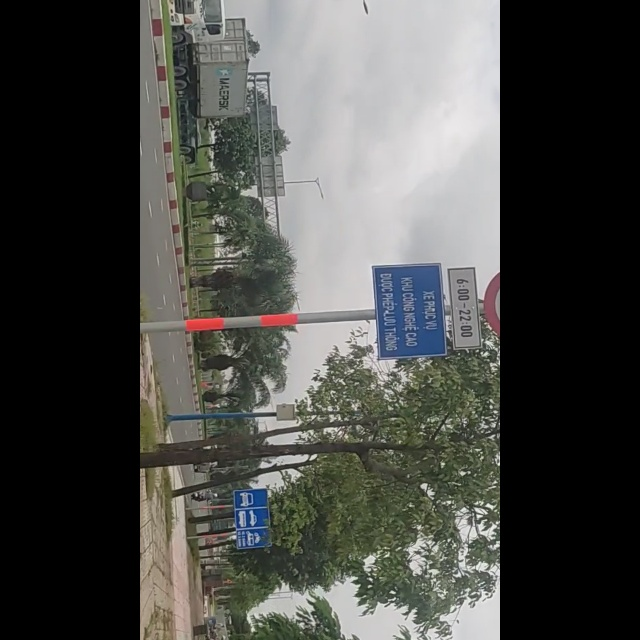bien_chi_dan: (164, 487, 244, 552)
